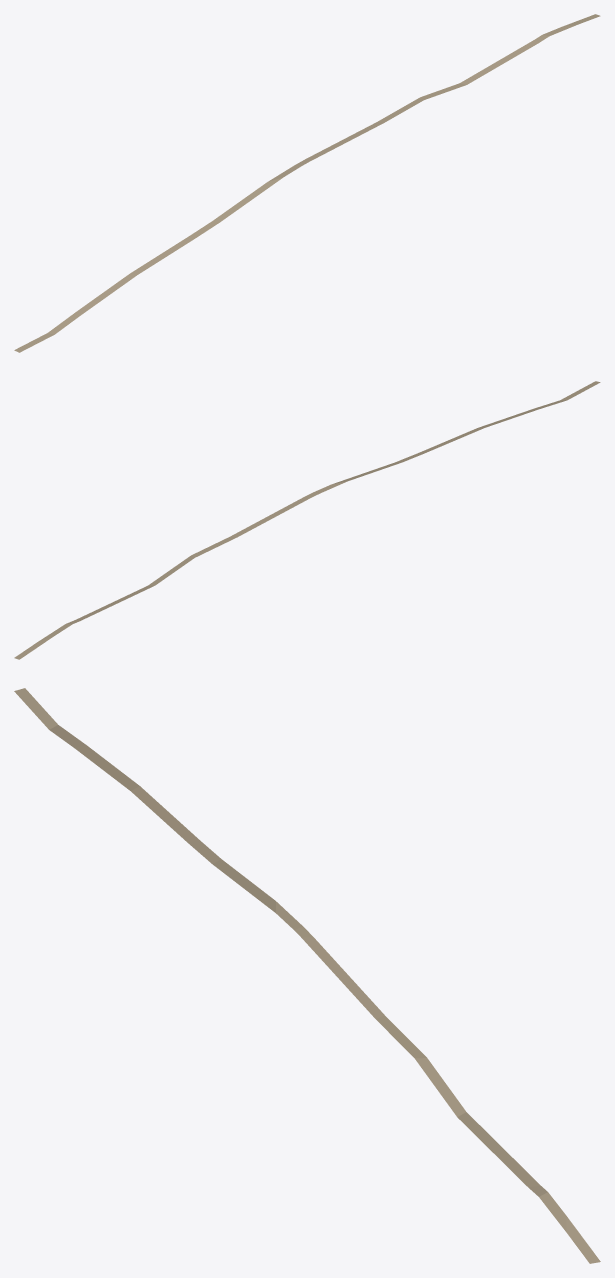
Rendered from farm_15_2_track.glb.
3 views of the same model, one above another, from view 1: azimuth 30°, elevation 25°; view 2: azimuth 210°, elevation 25°; view 3: azimuth 270°, elevation 25° (orthographic). The views are drawn at different scales.
Parts seen in each view (by area): view 1: geometry_0; view 2: geometry_0; view 3: geometry_0.
Boxes of the visible parts, x1,y1,x2,y2 form: geometry_0: [14, 14, 600, 352]; geometry_0: [14, 381, 600, 659]; geometry_0: [14, 688, 600, 1263].
Size of the model in its own units: 407 by 20.59 by 161.
